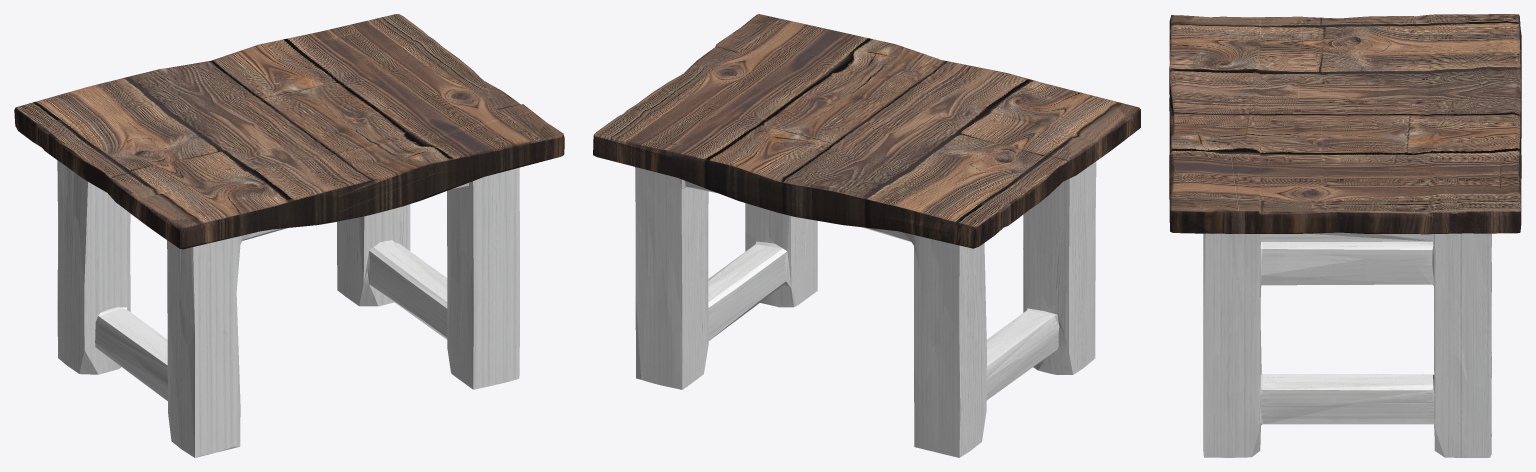
The picture shows the model from 3 angles, left to right: view 1: azimuth 30°, elevation 25°; view 2: azimuth 150°, elevation 25°; view 3: azimuth 270°, elevation 25°; orthographic projection. The views are drawn at different scales.
Size of the model in its own units: 1.9 by 1.19 by 1.42.
Materials: 1 (1 with a texture image).
